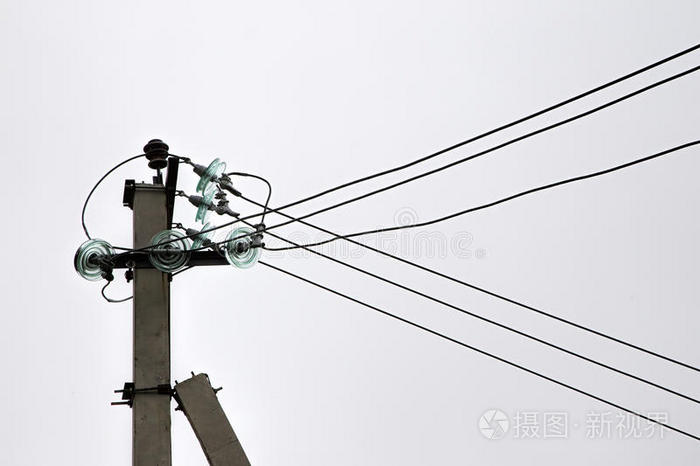insulator: (149, 230, 191, 275), (74, 235, 115, 281), (226, 226, 264, 269), (196, 154, 229, 194), (191, 192, 220, 225), (191, 219, 216, 252)
